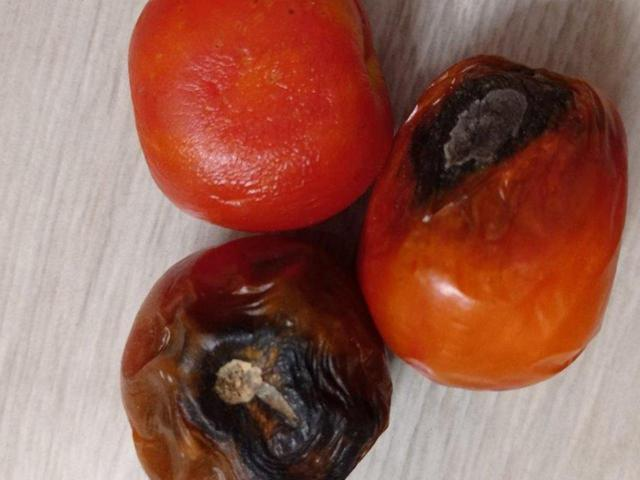defect: (370, 37, 633, 385)
